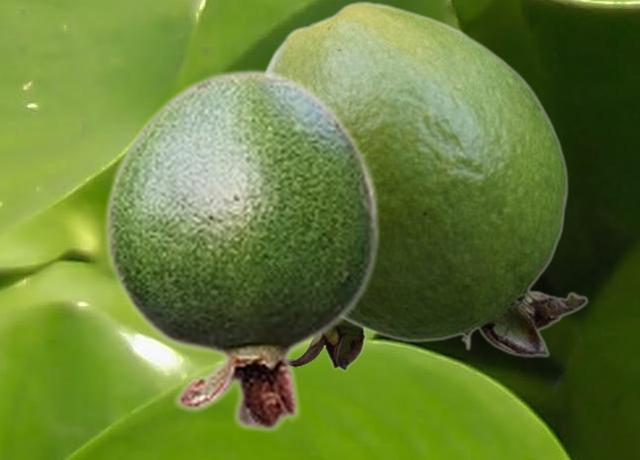guava: (264, 0, 588, 356), (103, 67, 381, 433), (294, 322, 368, 370)
